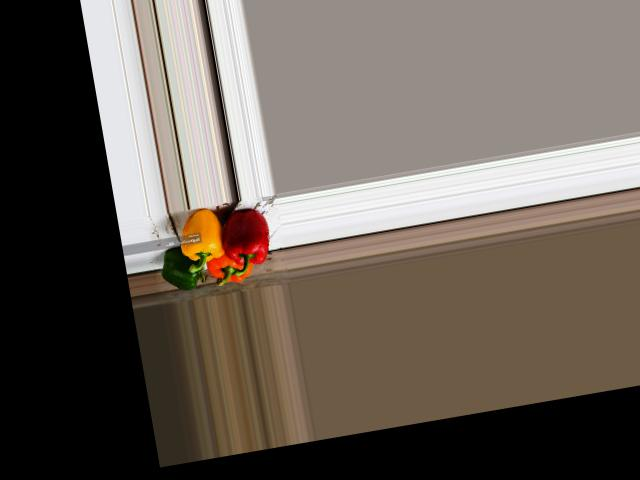bell_pepper: (203, 248, 255, 288)
